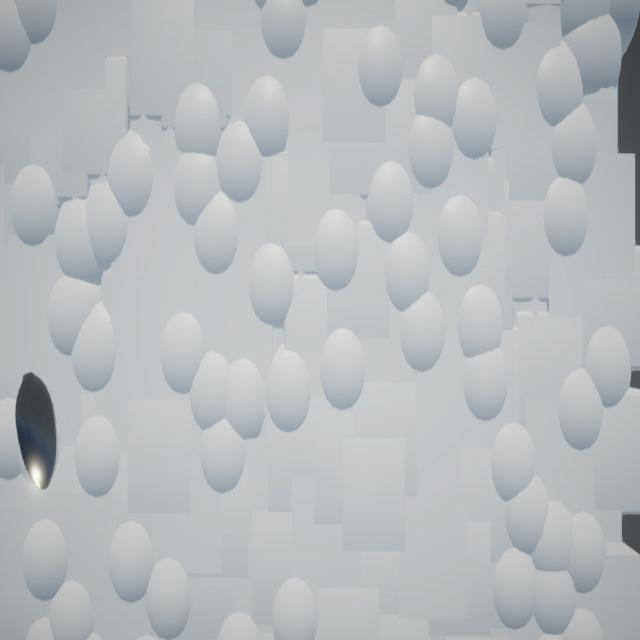top_spoon: (16, 373, 59, 491)
